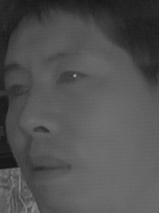eye: (56, 68, 92, 89), (3, 81, 33, 100)
mouth: (22, 151, 73, 187)
